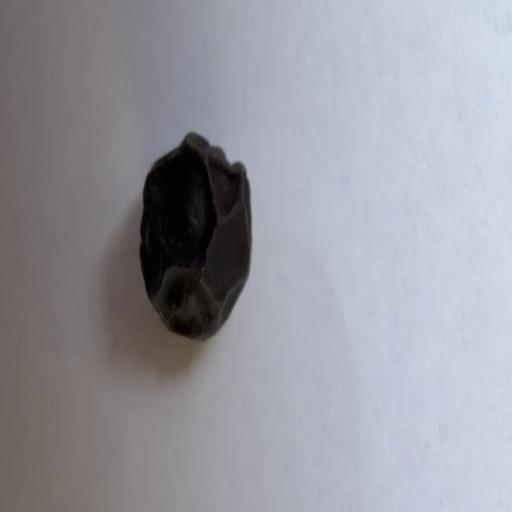Black_pepper: (119, 78, 271, 372)
